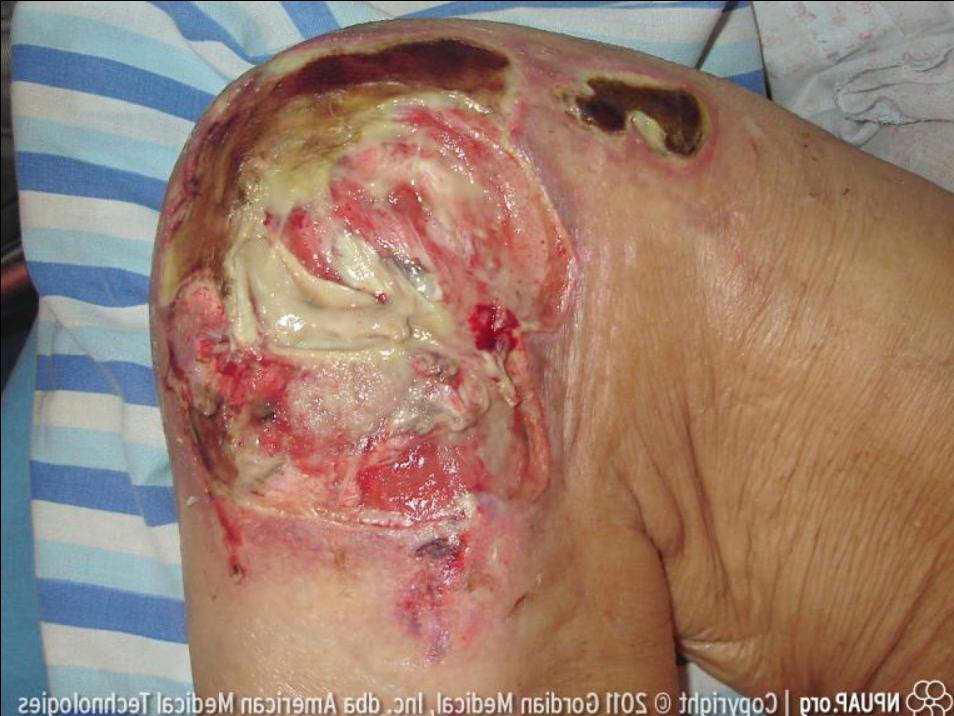Stage4: (117, 46, 606, 606)
